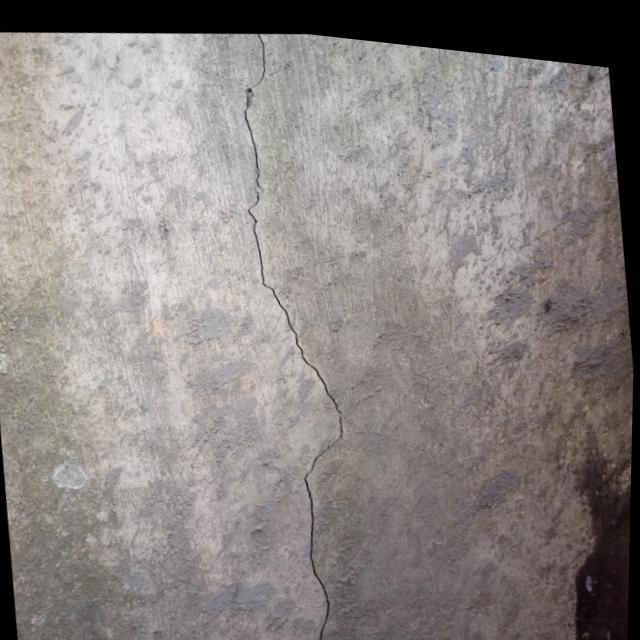Crack: (236, 46, 345, 635)
